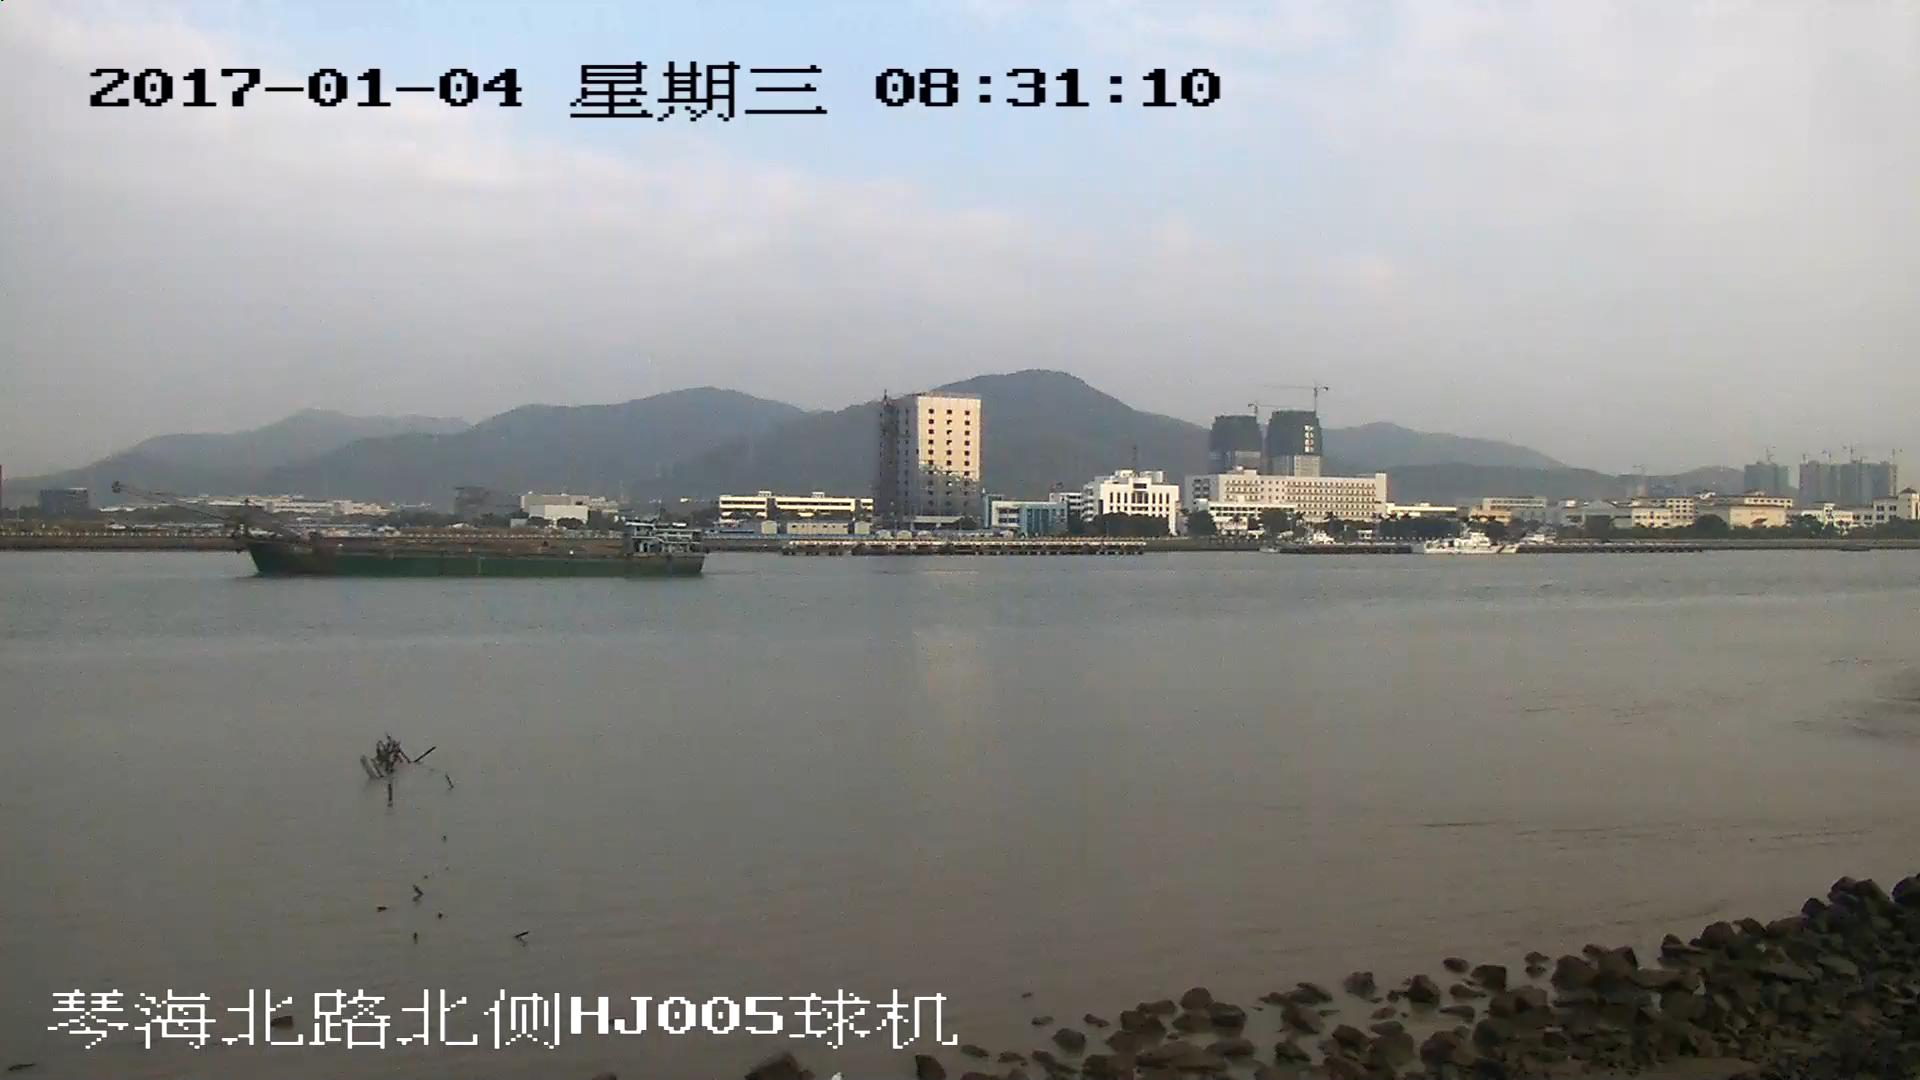bulk cargo carrier: (114, 485, 699, 580)
